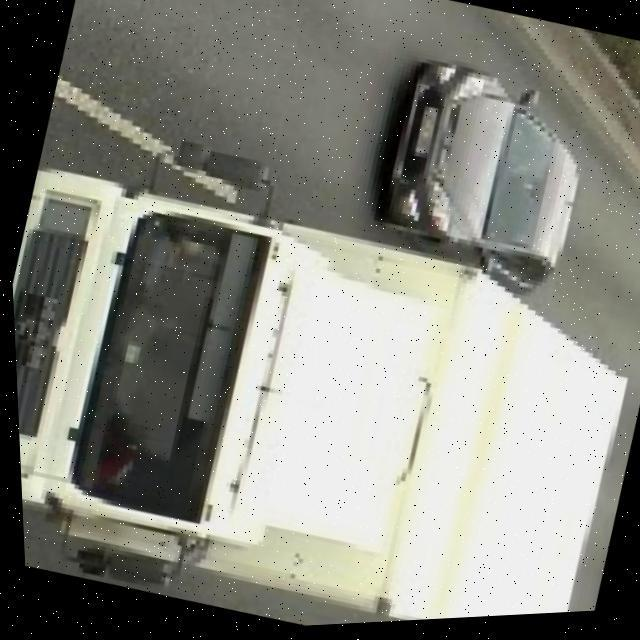truck: (4, 83, 640, 640)
